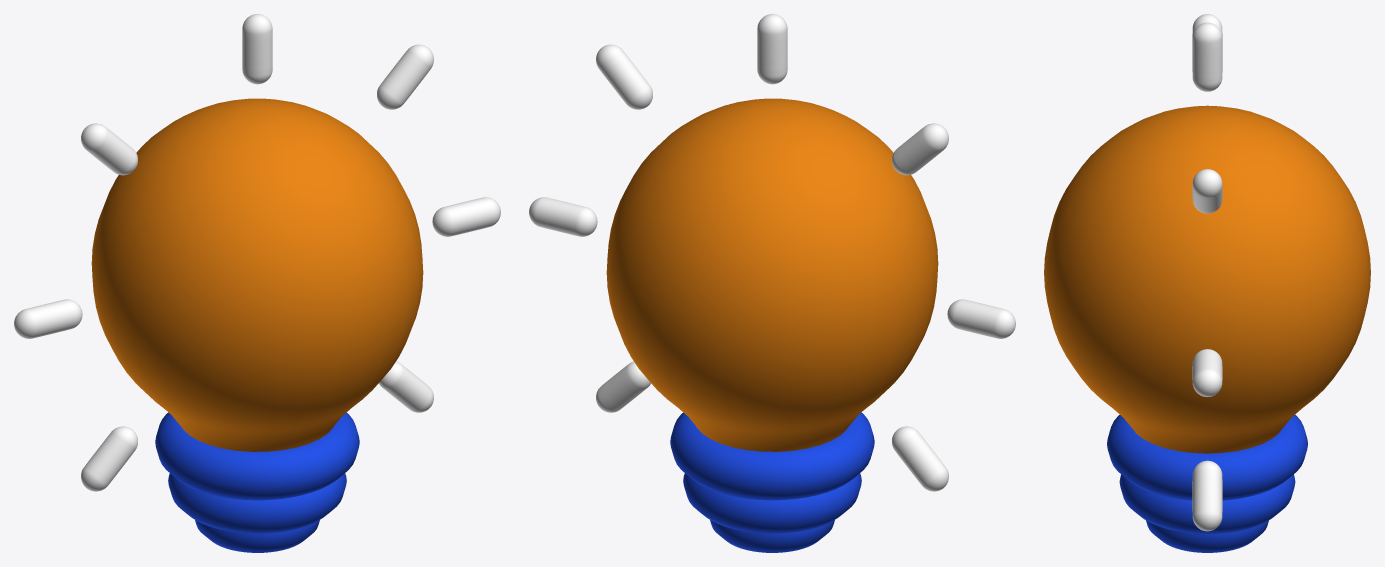
File: Creative.glb
3 renders of one model, left to right at view 1: azimuth 30°, elevation 25°; view 2: azimuth 150°, elevation 25°; view 3: azimuth 270°, elevation 25°, orthographic.
Parts seen in each view (by area): view 1: Sphere, BezierCircle, Sphere.001; view 2: Sphere, BezierCircle, Sphere.001; view 3: Sphere, BezierCircle, Sphere.001.
Part boxes in pixels (<box>): Sphere: <box>91,98,423,451</box>; BezierCircle: <box>155,412,359,552</box>; Sphere.001: <box>14,14,500,491</box>; Sphere: <box>606,98,938,451</box>; BezierCircle: <box>670,412,874,552</box>; Sphere.001: <box>529,14,1015,491</box>; Sphere: <box>1044,105,1370,453</box>; BezierCircle: <box>1107,415,1307,552</box>; Sphere.001: <box>1192,14,1222,531</box>.
Size of the model in its own units: 5.75 by 5.91 by 3.43.
